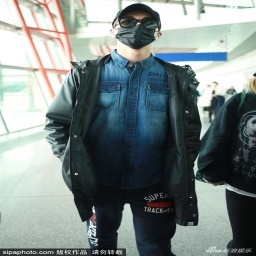correctlyWear: (109, 14, 162, 49)
noWear: (212, 82, 218, 88)
